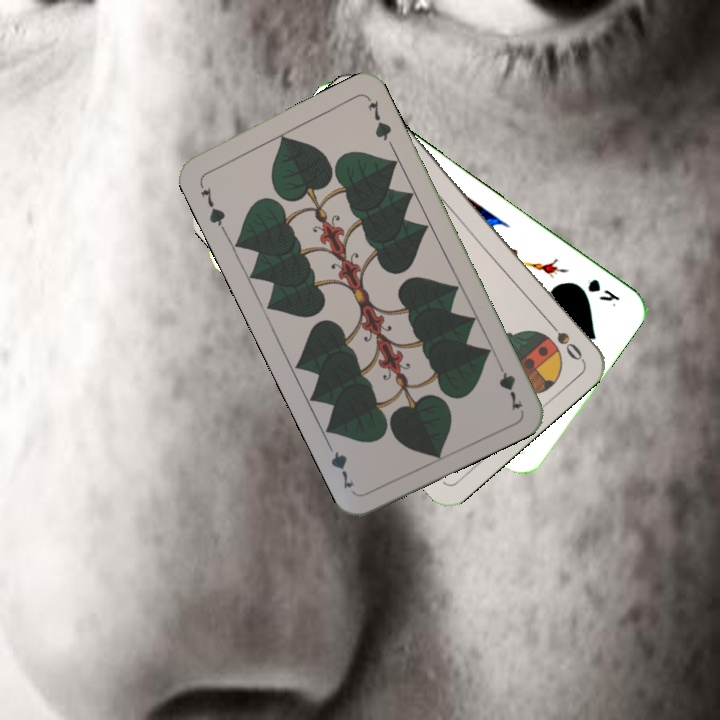G7: (492, 355, 525, 413), (195, 178, 228, 234)
GK: (583, 275, 622, 310)
SO: (541, 314, 585, 363)
